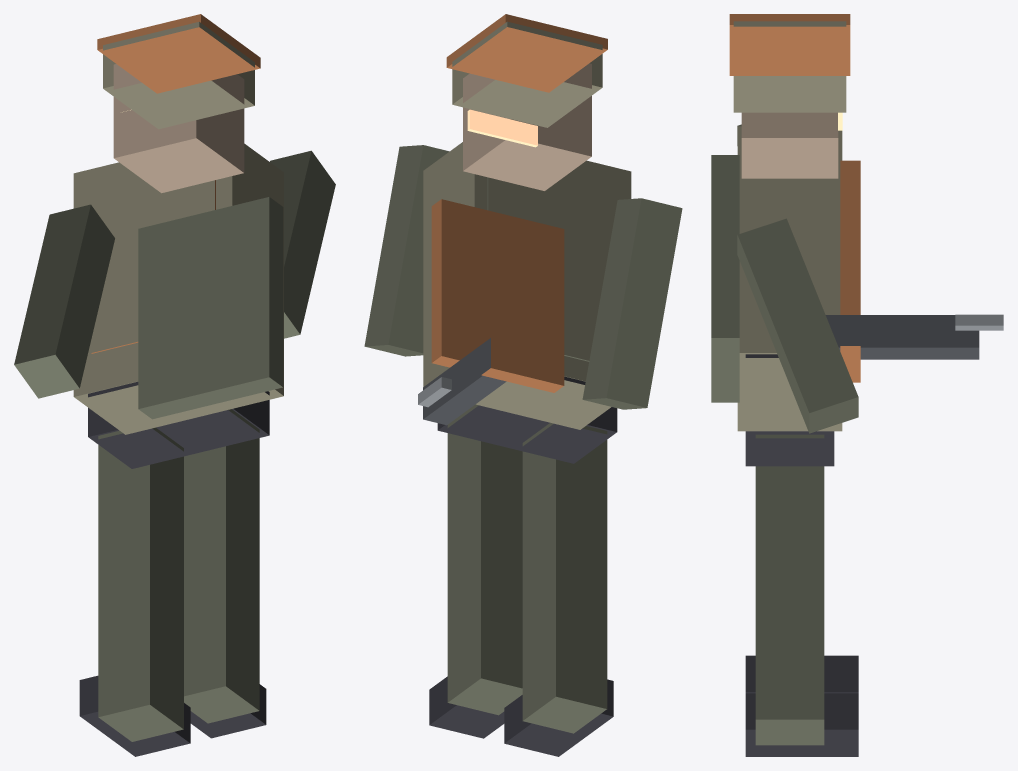
File: enemy_a.glb
3 renders of one model, left to right at view 1: azimuth 30°, elevation 25°; view 2: azimuth 150°, elevation 25°; view 3: azimuth 270°, elevation 25°, orthographic. The views are drawn at different scales.
Visible parts, largest first — view 1: legs, torso, head, arms; view 2: legs, torso, arms, head, visor; view 3: legs, torso, arms, head.
Part boxes in pixels (left/top/right/bottom): legs: left=79, top=381, right=269, bottom=756; torso: left=73, top=143, right=283, bottom=434; head: left=97, top=14, right=260, bottom=193; arms: left=14, top=150, right=335, bottom=398; legs: left=429, top=376, right=617, bottom=756; torso: left=423, top=142, right=631, bottom=429; arms: left=364, top=145, right=682, bottom=425; head: left=446, top=14, right=607, bottom=190; visor: left=467, top=109, right=537, bottom=147; legs: left=745, top=354, right=858, bottom=756; torso: left=711, top=126, right=860, bottom=431; arms: left=737, top=124, right=1003, bottom=433; head: left=729, top=14, right=850, bottom=178.
Bounding box in the file's own units: 0.76 × 1.88 × 0.725.
